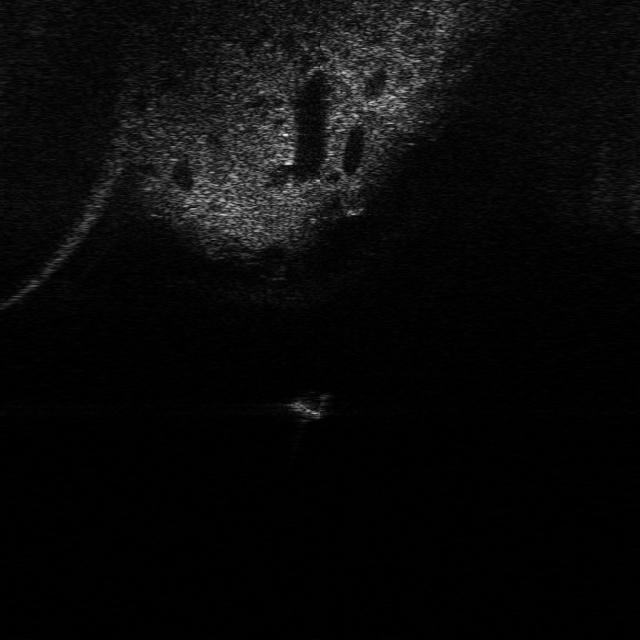ball: (334, 179, 370, 213)
cube: (276, 388, 334, 422)
